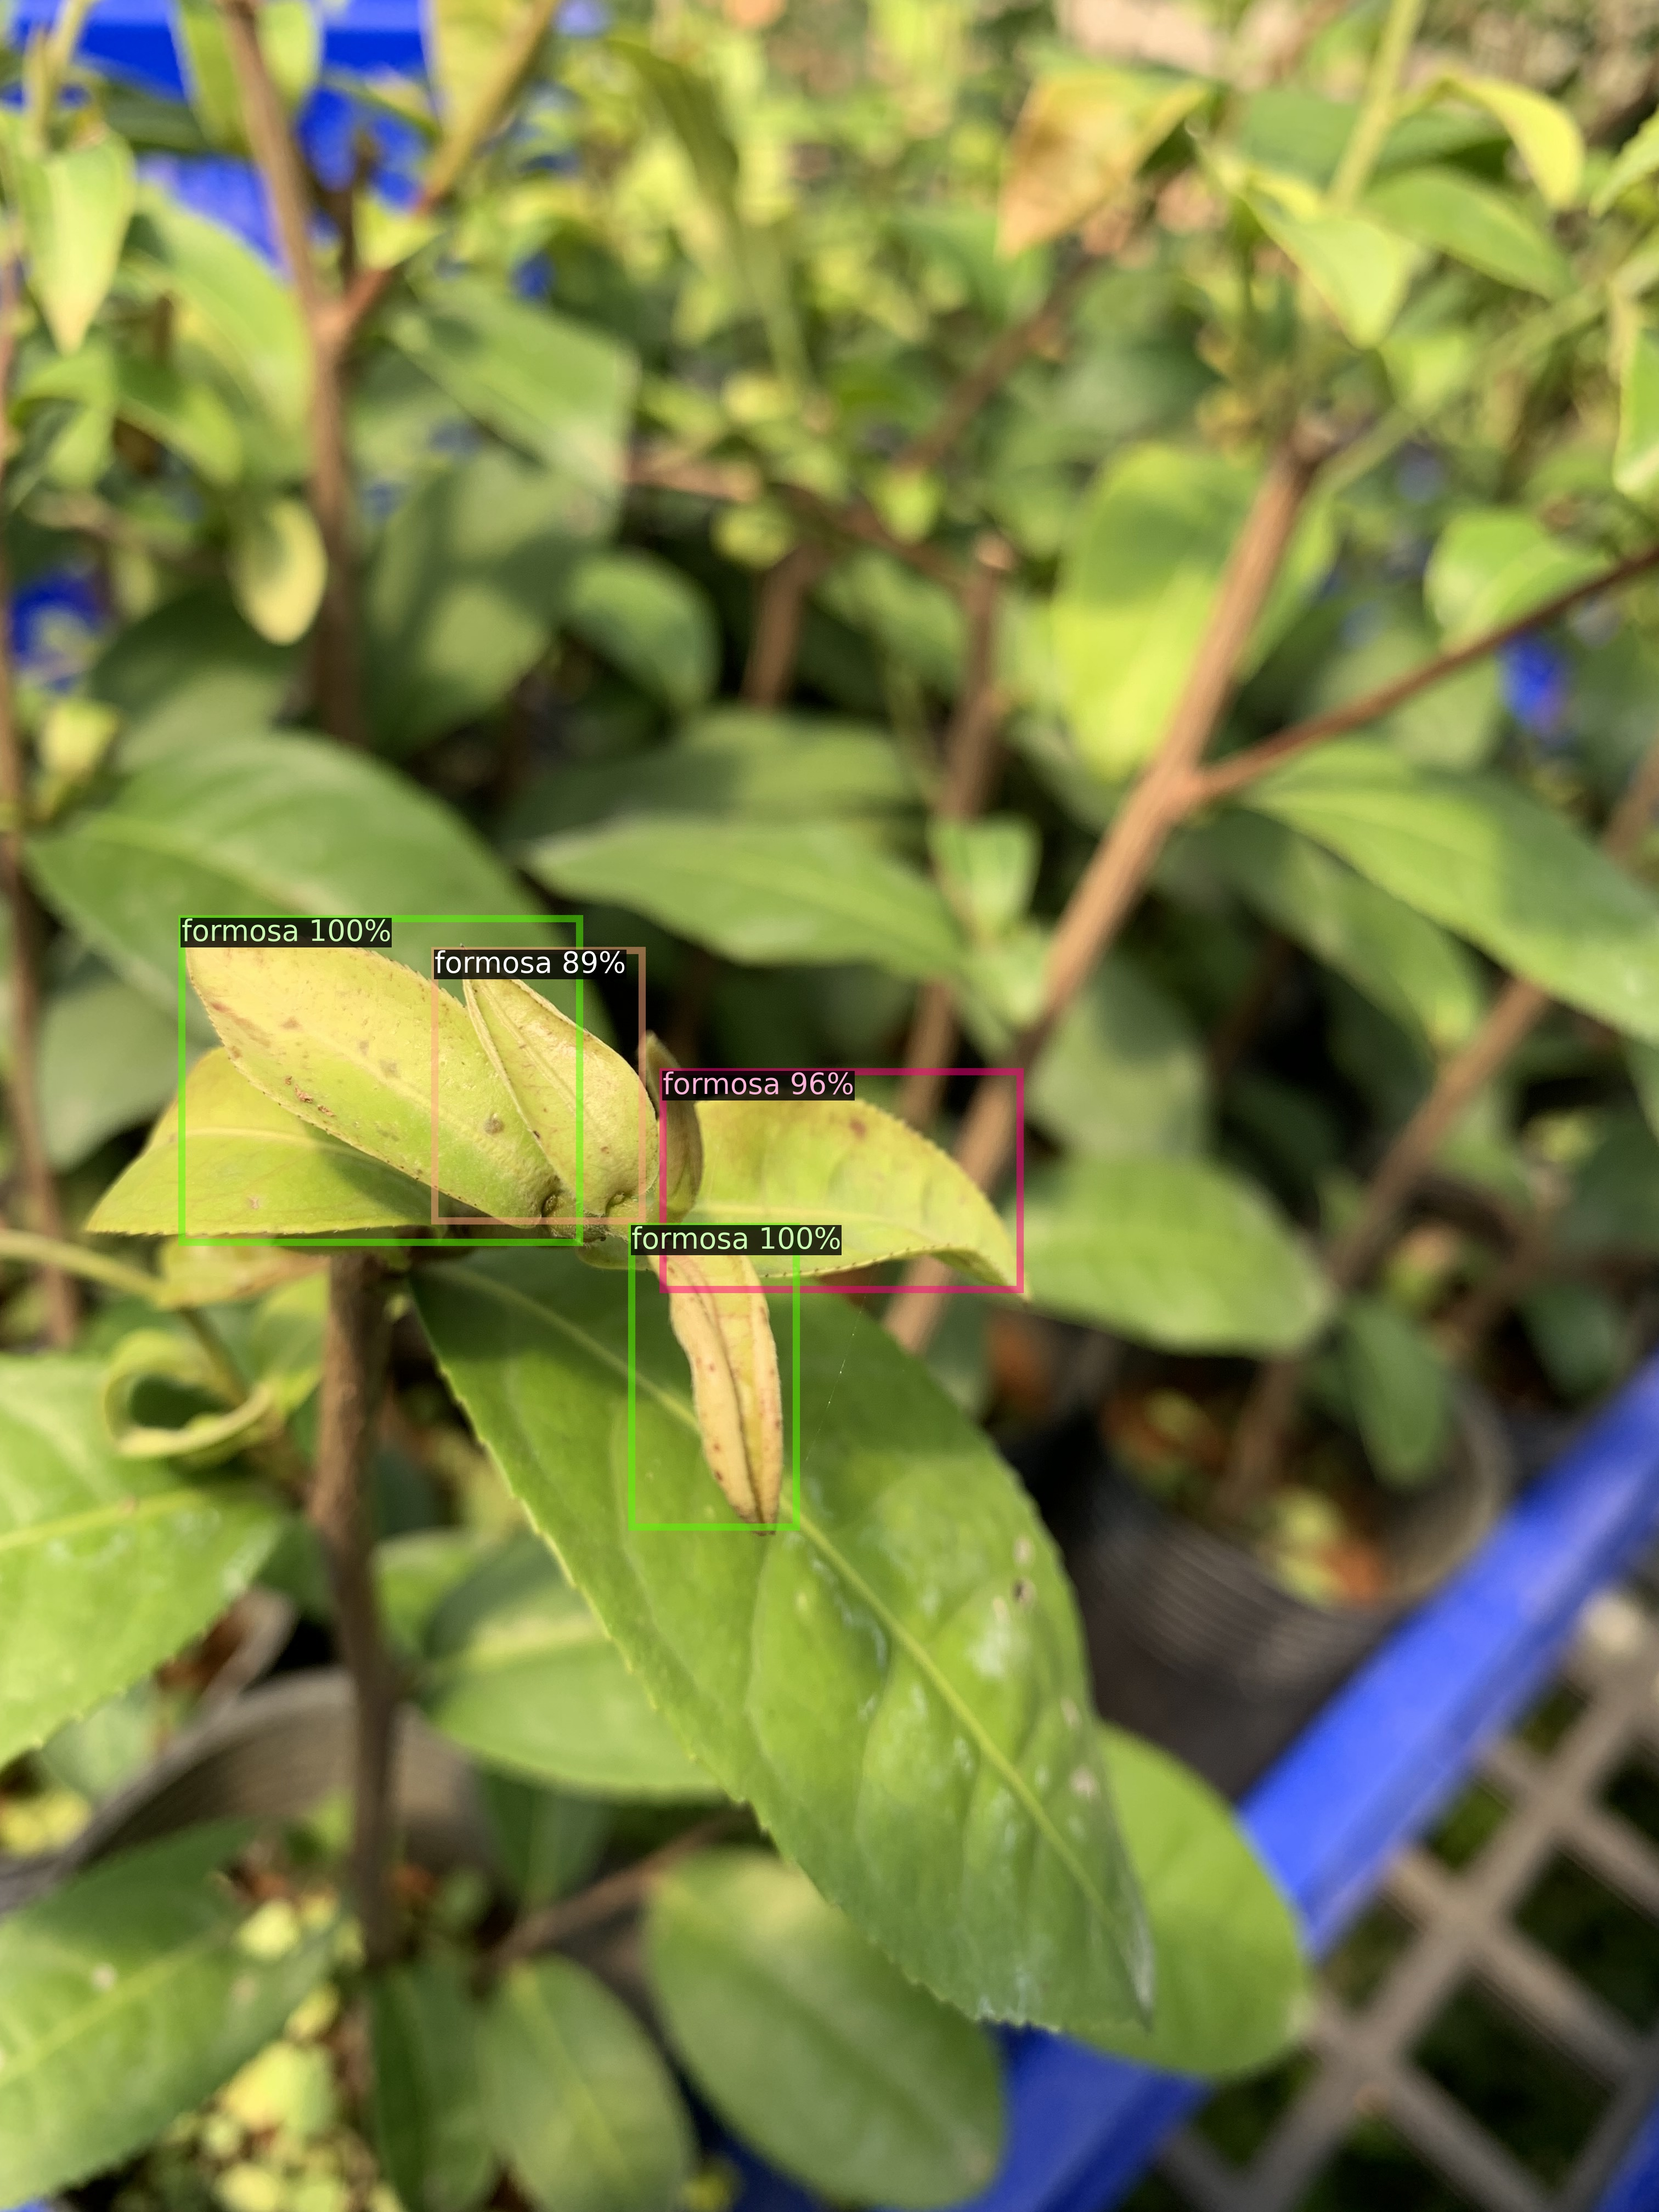formosa: (181, 918, 579, 1242), (662, 1071, 1019, 1289), (434, 951, 641, 1221), (631, 1226, 796, 1526)
